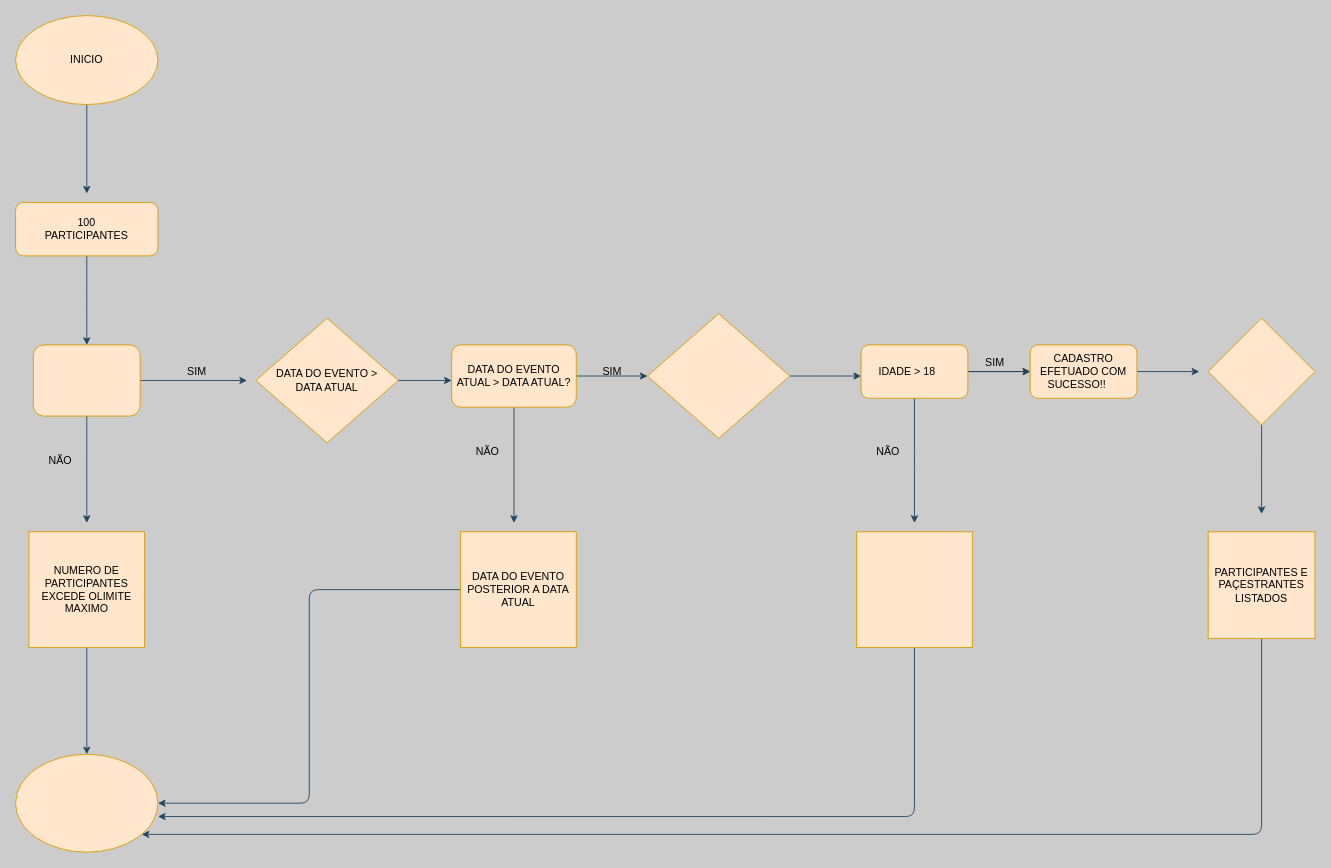
The diagram is 1331 pixels wide and 868 high, and some of its shapes have lost their labels. Here are the shapes that lost their labels. From the top down, the centre of each, then its label:
At point (86, 380): "NUMERO DE PARTICIPANTES <100 ?".
At point (718, 375): "INFORME SUA IDADE".
At point (1261, 371): "LISYAR".
At point (914, 589): "IDADE ABAIXO DO VALOR MINIMO".
At point (86, 802): "FIM".
